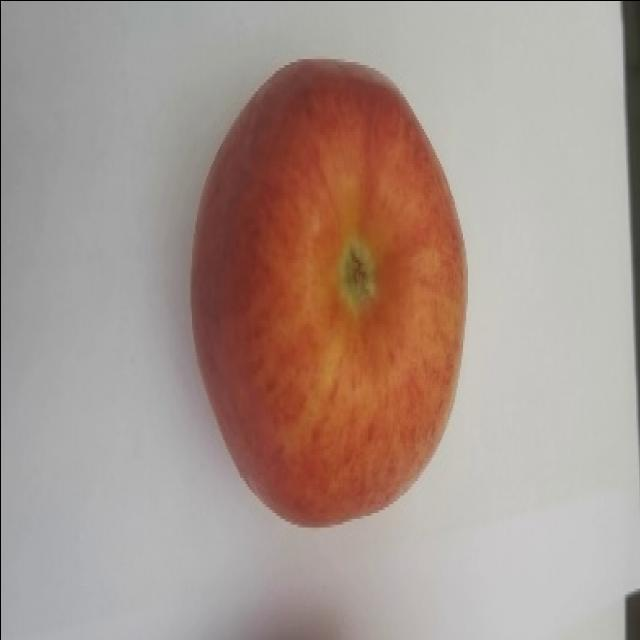Apple: (189, 56, 468, 528)
